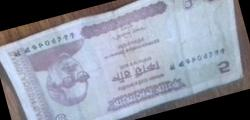5 taka: (8, 1, 235, 118)
